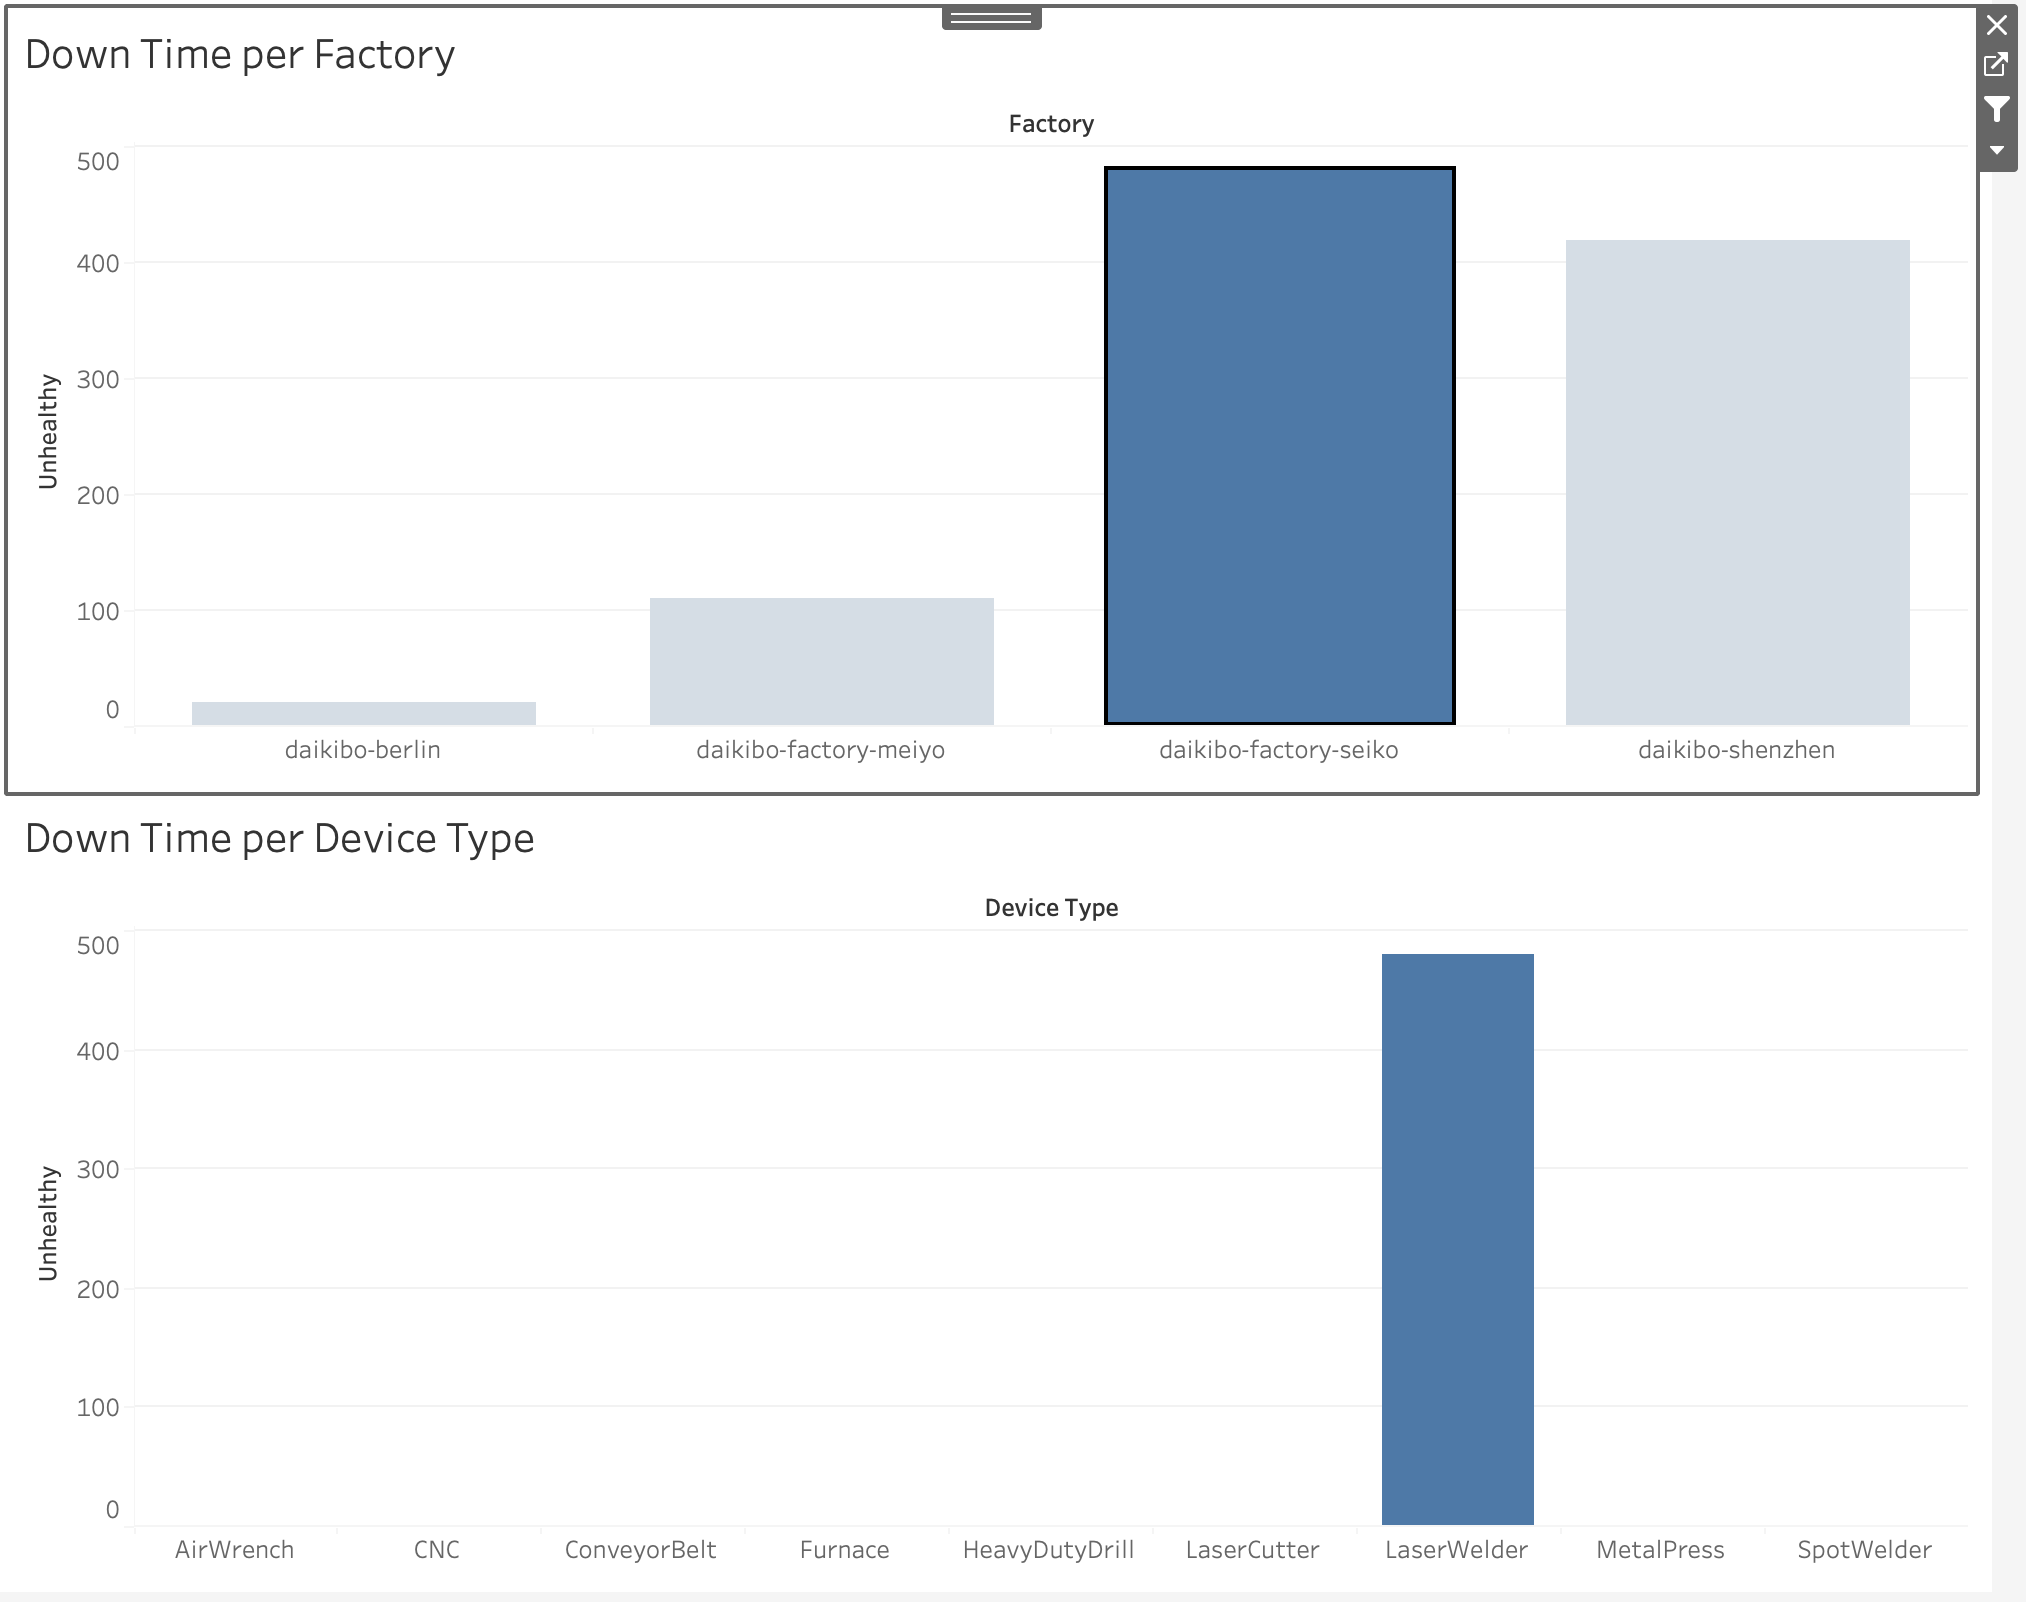

This screenshot's page, from the dashboard's own definition file:
{"tool":"tableau","page":{"name":"Dashboard 1","canvas":[1000,800],"ordinal":0},"visuals":[{"type":"worksheet","title":"Down Time per Factory","mark":"Automatic","rows":["Calculation_368521163100631040"],"cols":["factory"],"box":[8,8,984,392]},{"type":"worksheet","title":"Down Time per Device Type","mark":"Automatic","rows":["Calculation_368521163100631040"],"cols":["deviceType"],"box":[8,400,984,392]}]}

Visuals, with their boxes on the page's 1000x800 design canvas (x1, y1, x2, y2). These are canvas units, not pixel positions in the 2026x1602 screenshot, which may show the page scaled, cropped or inside an application window:
"Down Time per Factory" worksheet: (left=8, top=8, right=992, bottom=400)
"Down Time per Device Type" worksheet: (left=8, top=400, right=992, bottom=792)
